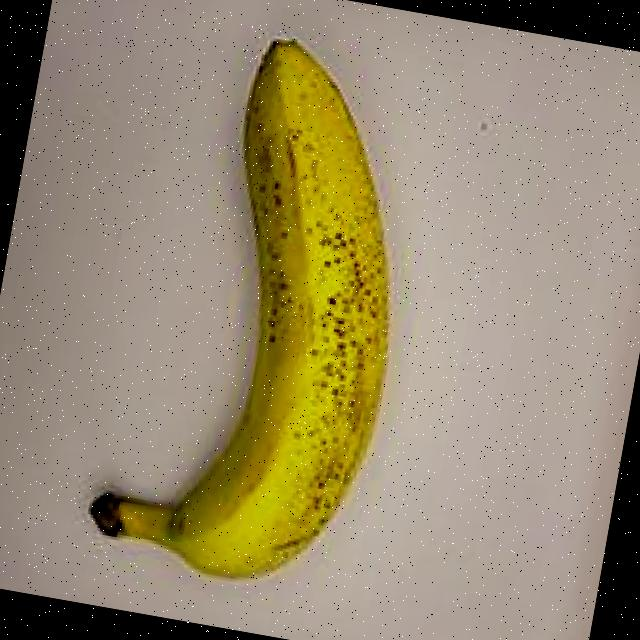Overripe: (49, 0, 469, 637)
